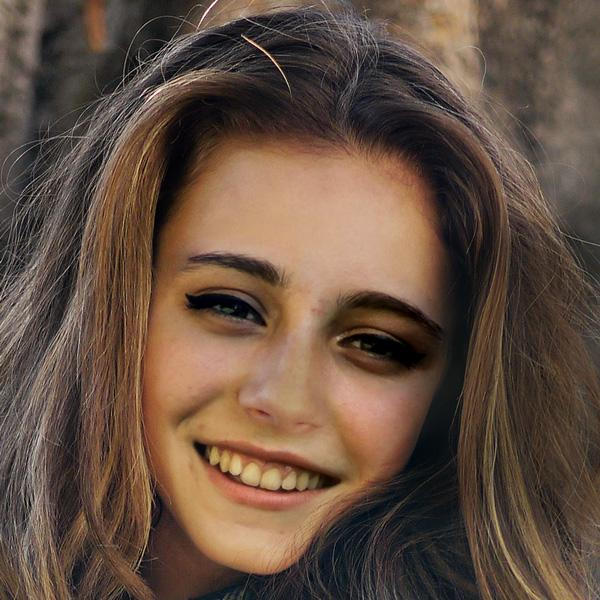Eyes: (181, 276, 272, 337), (325, 317, 414, 375)
